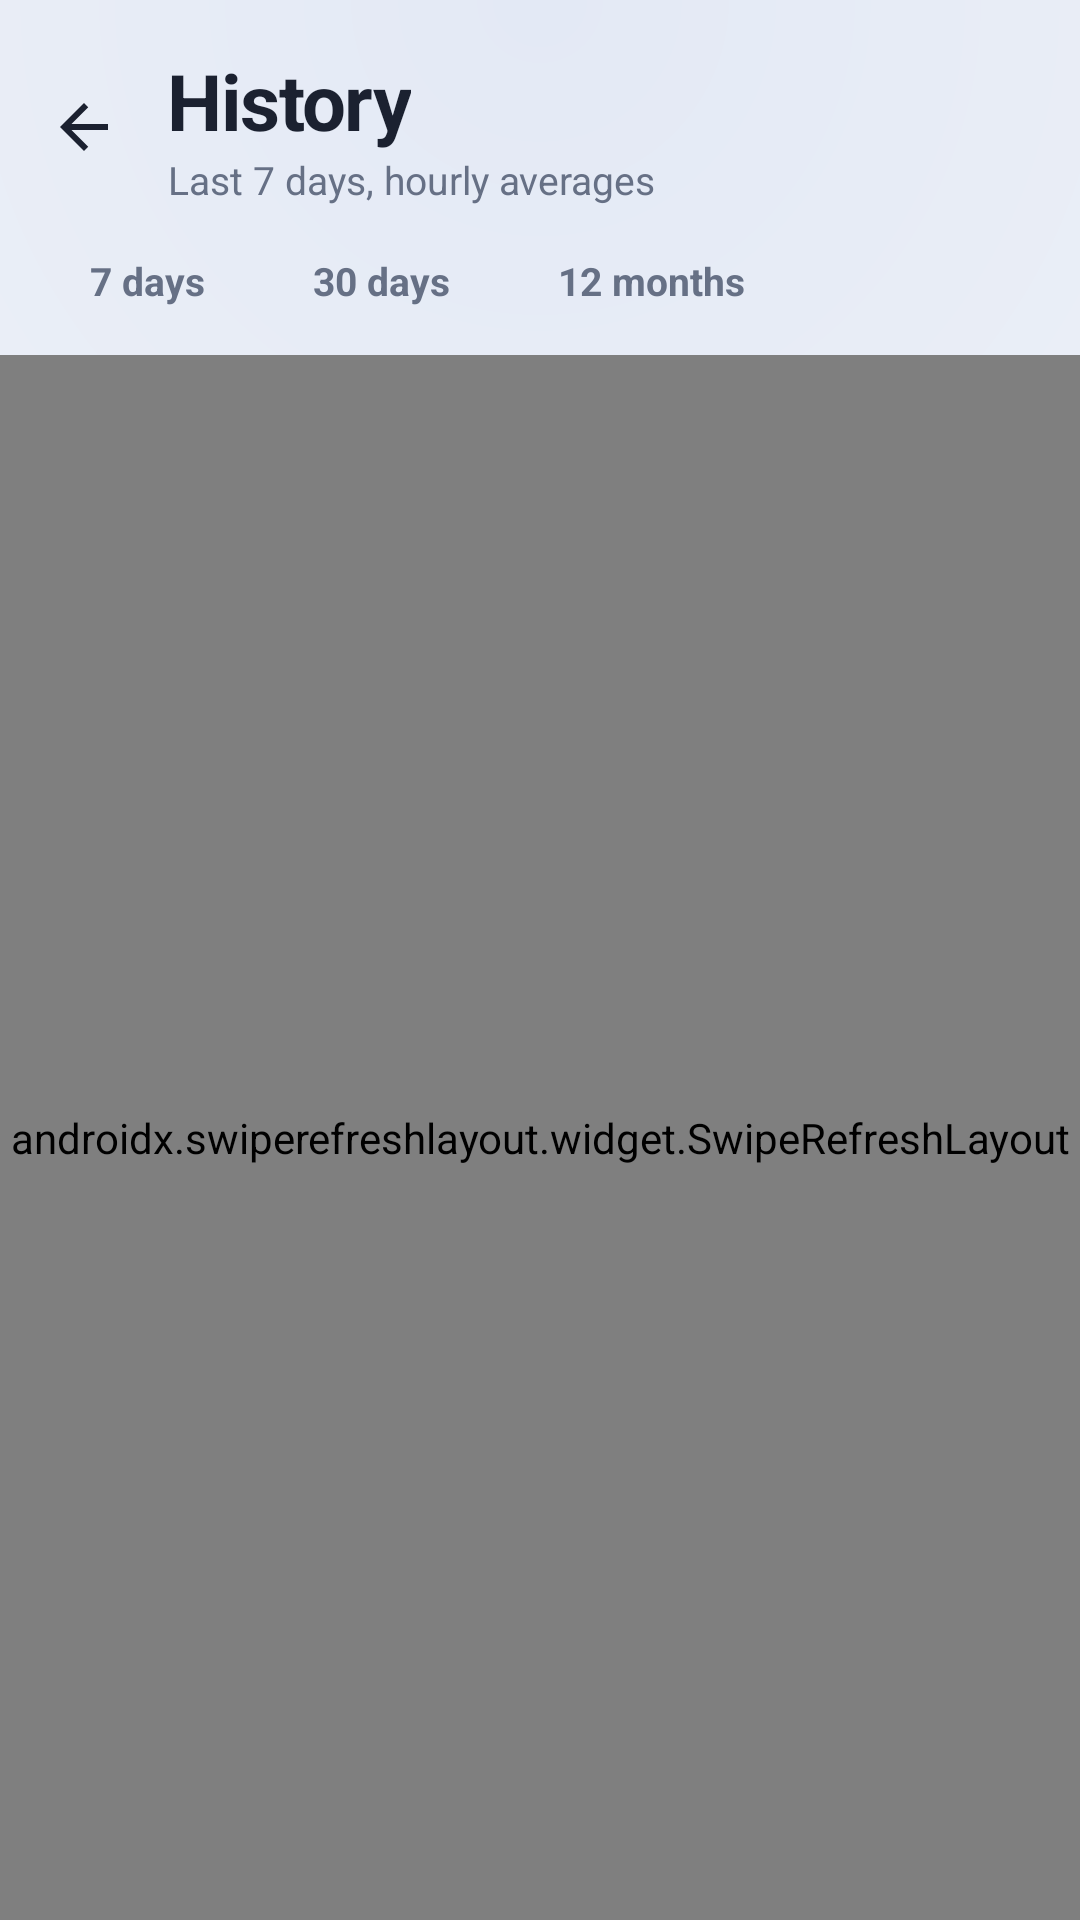

Named icons in this screenshot (1080x1920) and their bounding boxes, (x1, y1, x2, y2):
Back: (60, 103, 108, 151)
